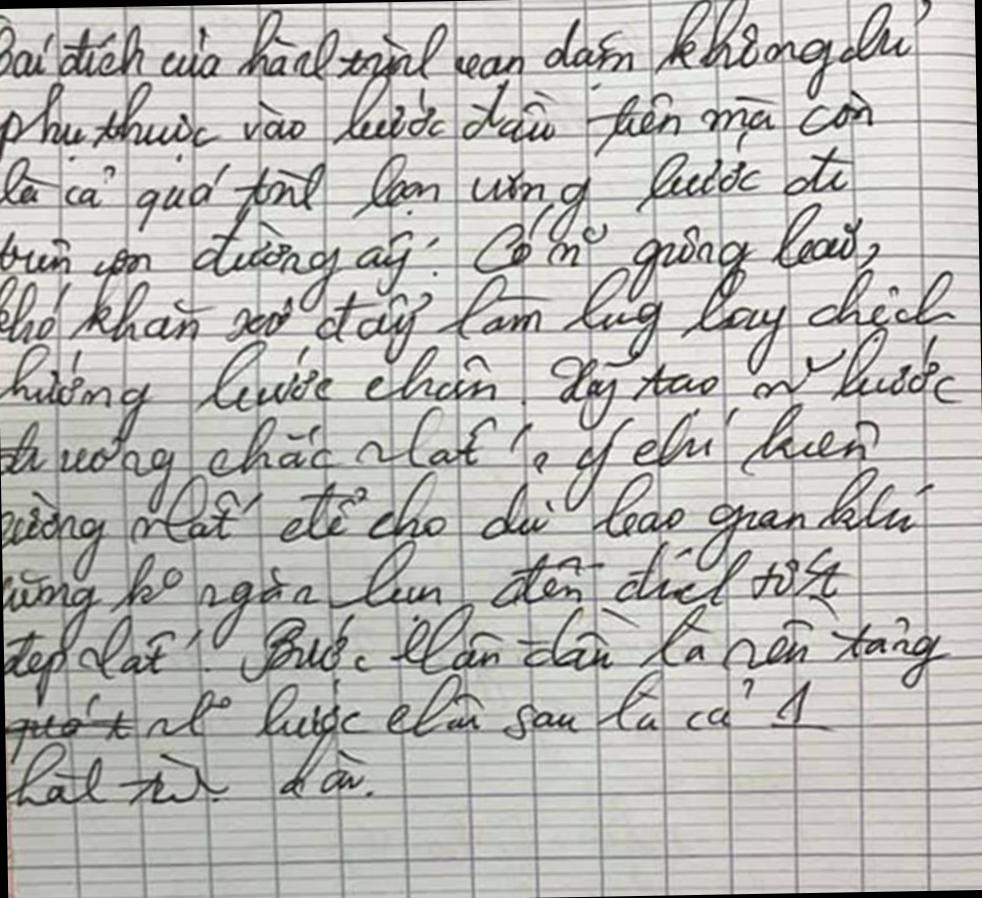text: (0, 256, 962, 390), (0, 318, 966, 447), (0, 457, 940, 588), (3, 590, 958, 712), (0, 395, 887, 524), (1, 525, 857, 656), (0, 126, 857, 253), (0, 193, 883, 316), (0, 0, 938, 114), (0, 62, 881, 164), (4, 662, 838, 769), (5, 728, 376, 816)
